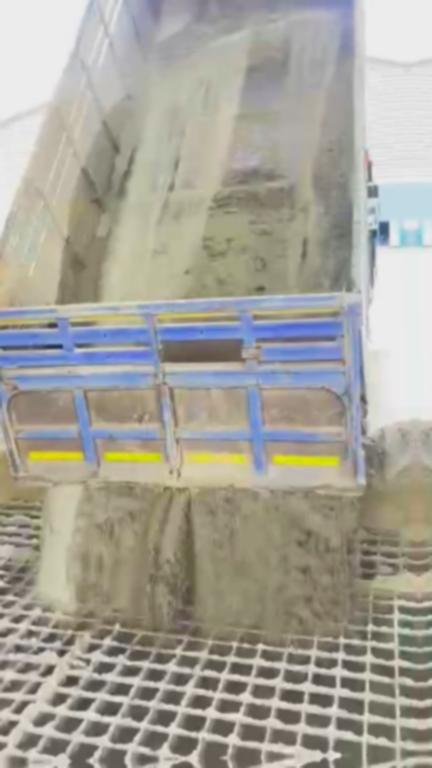sand: (60, 0, 355, 302), (40, 484, 356, 640), (0, 654, 72, 763), (361, 420, 418, 542), (0, 362, 43, 508), (357, 571, 420, 600), (0, 538, 37, 565)
